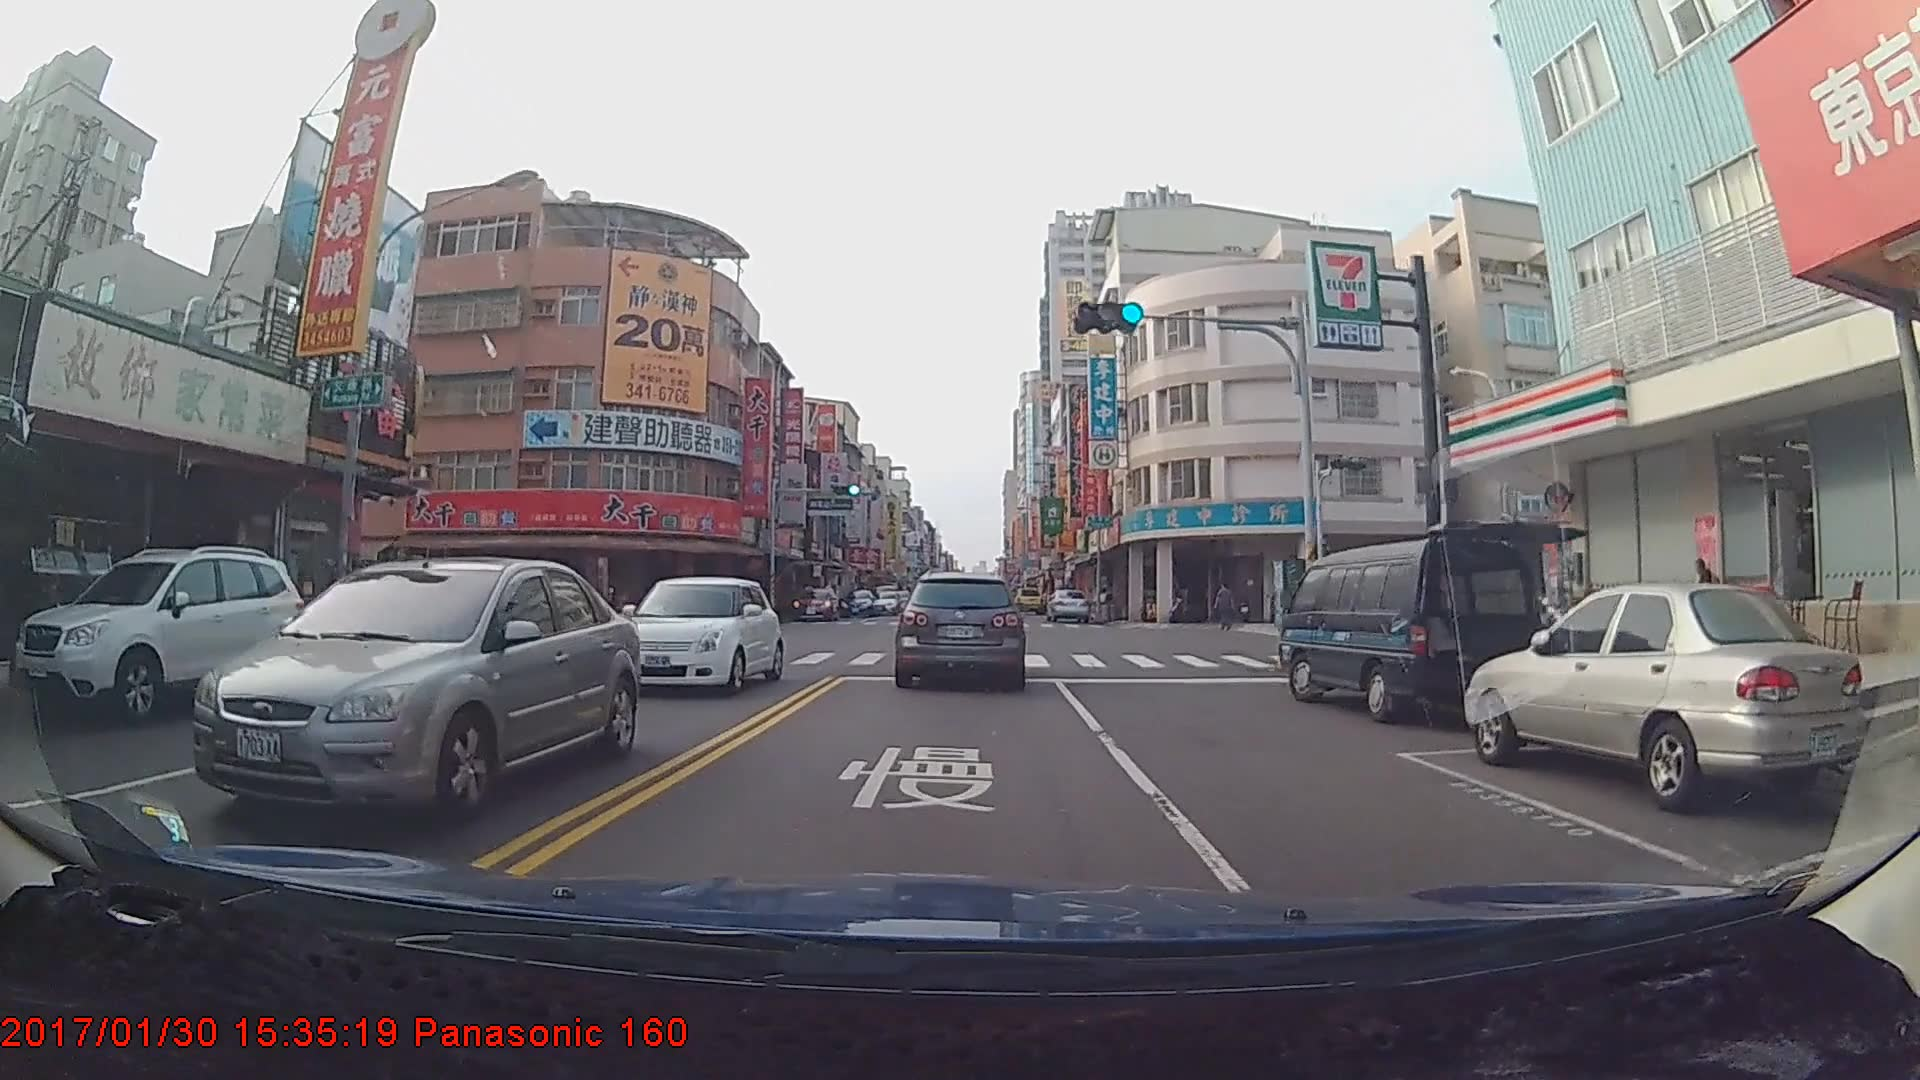pedestrian: (1217, 584, 1238, 636)
vehicle: (187, 553, 641, 827), (1470, 578, 1866, 812), (7, 544, 313, 729), (1282, 531, 1547, 725), (604, 573, 782, 698), (896, 570, 1027, 689), (1044, 587, 1093, 625), (792, 584, 838, 619), (839, 589, 876, 615), (1014, 586, 1045, 612)
